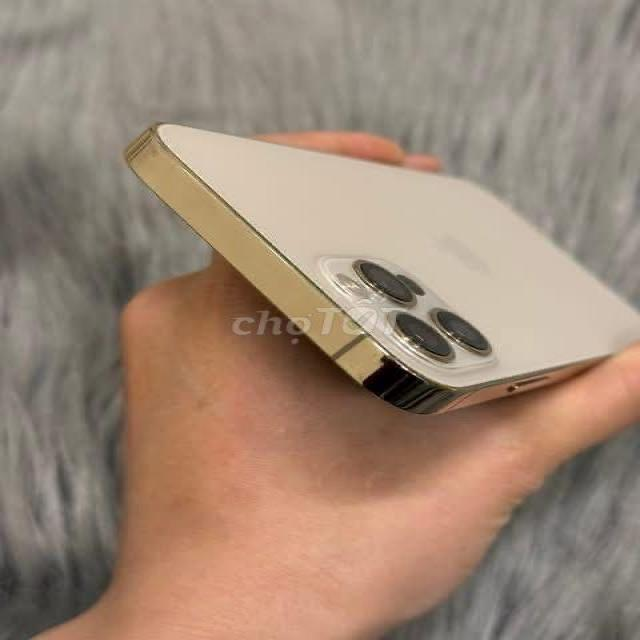gen_12_13: (127, 124, 639, 412)
